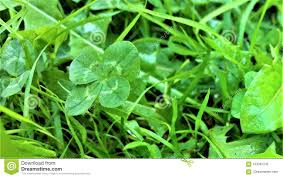4-clover: (69, 42, 138, 120)
